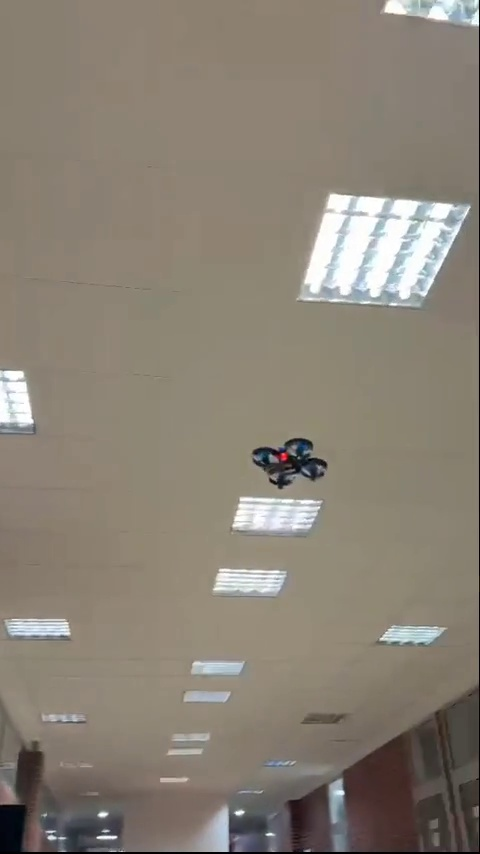drone: (251, 434, 327, 493)
